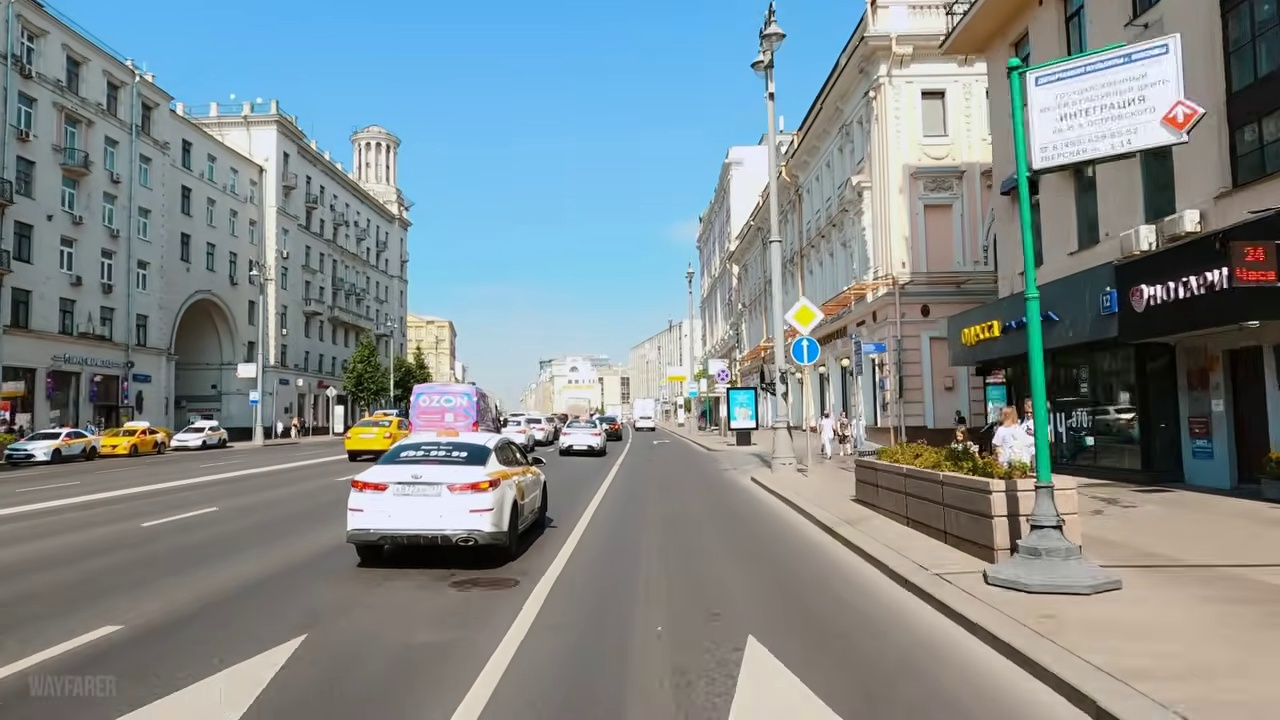apagada: (748, 18, 783, 77)
